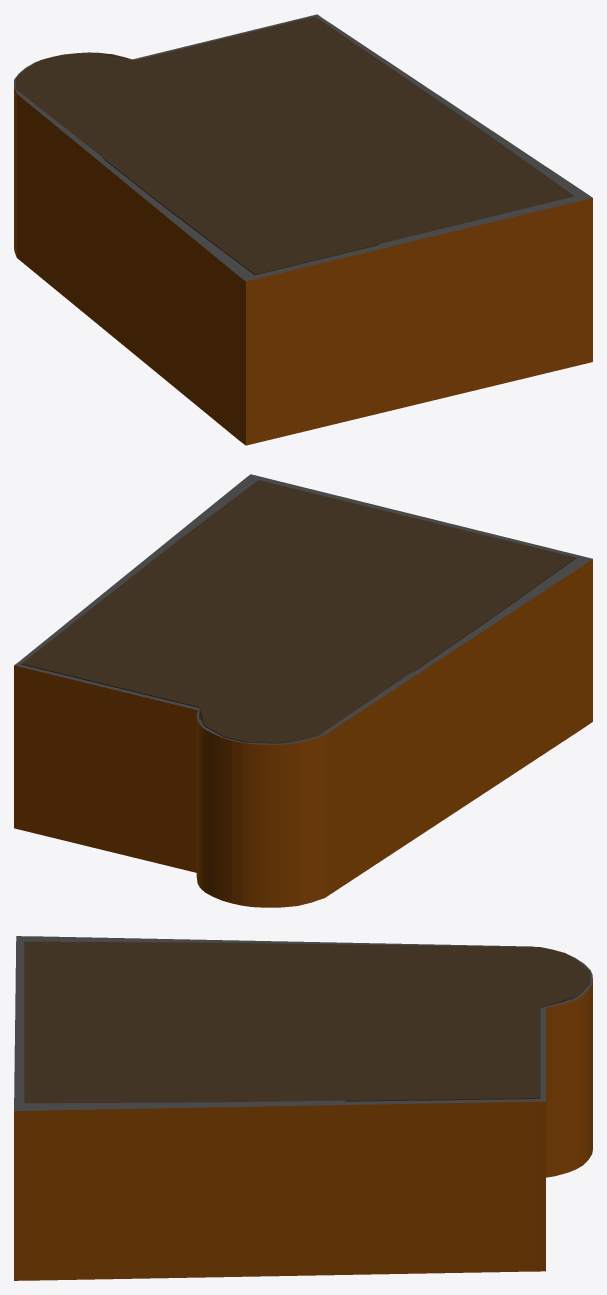
File: crime scene 4 FBX.fbx
The picture shows the model from 3 angles, top to bottom: view 1: azimuth 30°, elevation 25°; view 2: azimuth 150°, elevation 25°; view 3: azimuth 270°, elevation 25°; orthographic projection. The views are drawn at different scales.
Visible parts, largest first — view 1: Building_4, Ceiling_4; view 2: Building_4, Ceiling_4; view 3: Building_4, Ceiling_4.
Part boxes in pixels (left/top/right/bottom): Building_4: left=14, top=14, right=592, bottom=445; Ceiling_4: left=15, top=16, right=574, bottom=275; Building_4: left=14, top=474, right=592, bottom=907; Ceiling_4: left=21, top=480, right=576, bottom=743; Building_4: left=14, top=936, right=592, bottom=1280; Ceiling_4: left=24, top=941, right=590, bottom=1103.
Size of the model in its own units: 35.3 by 16.1 by 49.4.
